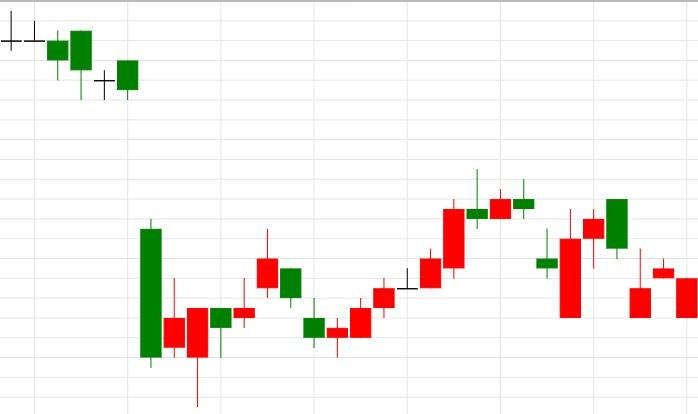inverse_hammer_rise: (1, 9, 185, 369)
